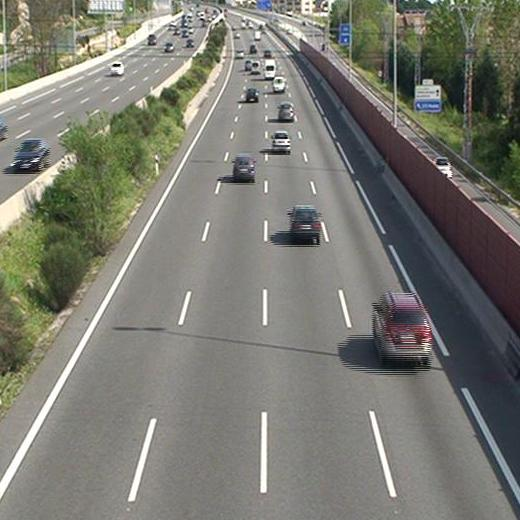car: (371, 292, 434, 363), (287, 205, 321, 240), (232, 156, 257, 179), (271, 132, 292, 152), (277, 101, 295, 120), (244, 88, 259, 103), (234, 48, 244, 58)
van: (273, 74, 288, 92), (263, 58, 276, 77), (250, 61, 262, 74)
